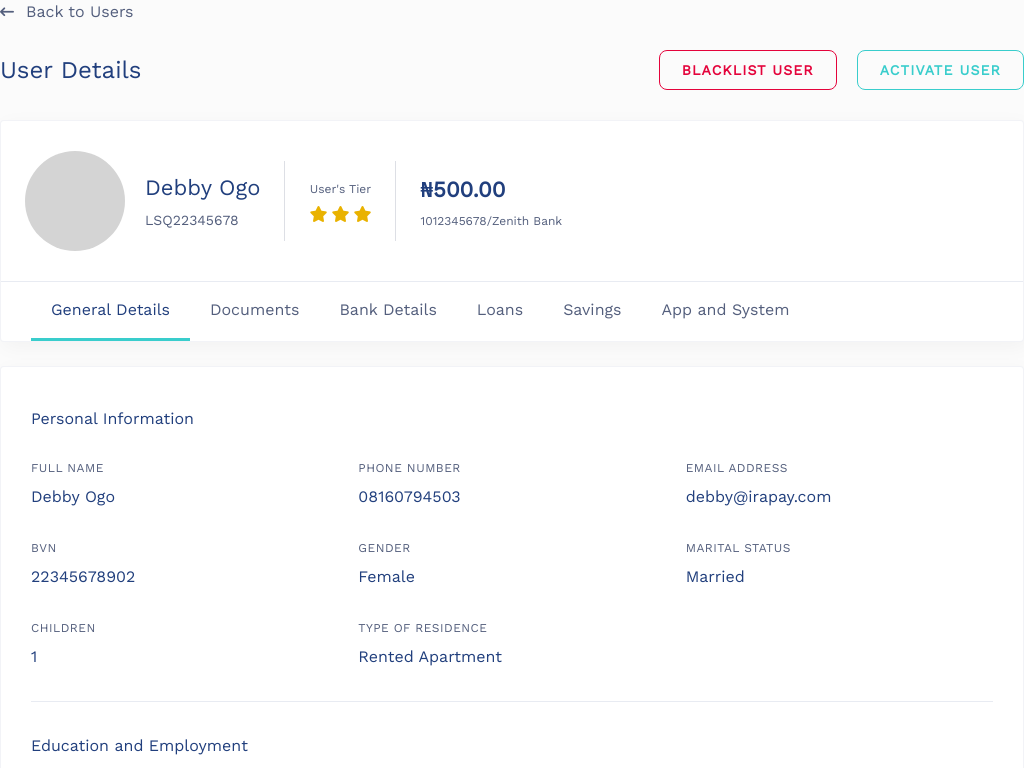
UserDetails Page › clicking blacklist opens confirmation modal and updates user status on confirm
Click it to open modal
Step 1. Click the button "Blacklist User" → (748, 70), box [659, 50, 837, 90]
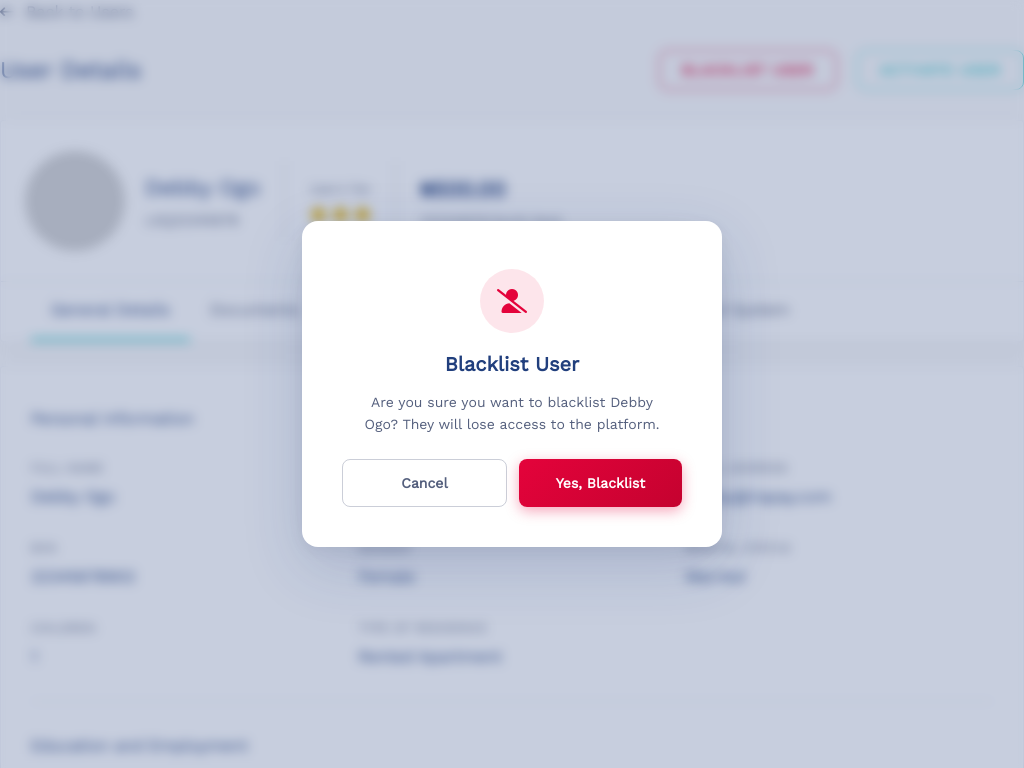
Expected: the heading "Blacklist User" is shown, [445, 351, 579, 377]
Confirm the action
Step 2. Click the button "Yes, Blacklist" → (600, 483), box [519, 459, 682, 507]
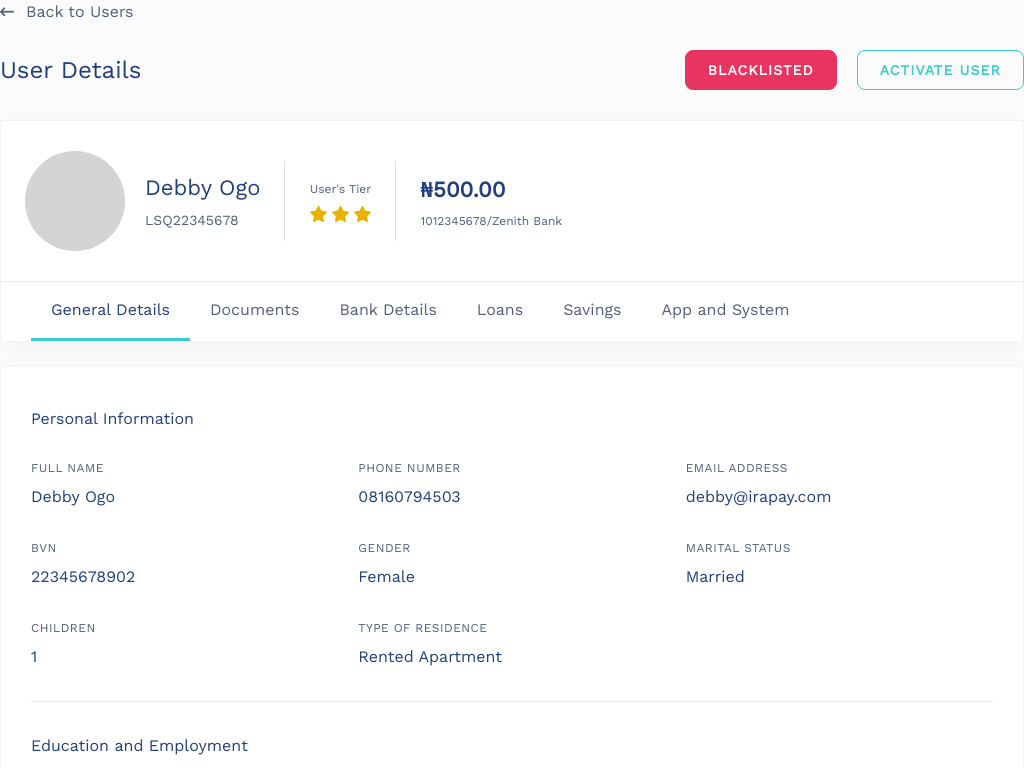
Expected: the button "Blacklist User" is gone
Expected: the button "Blacklisted" is disabled, [685, 50, 837, 90]
